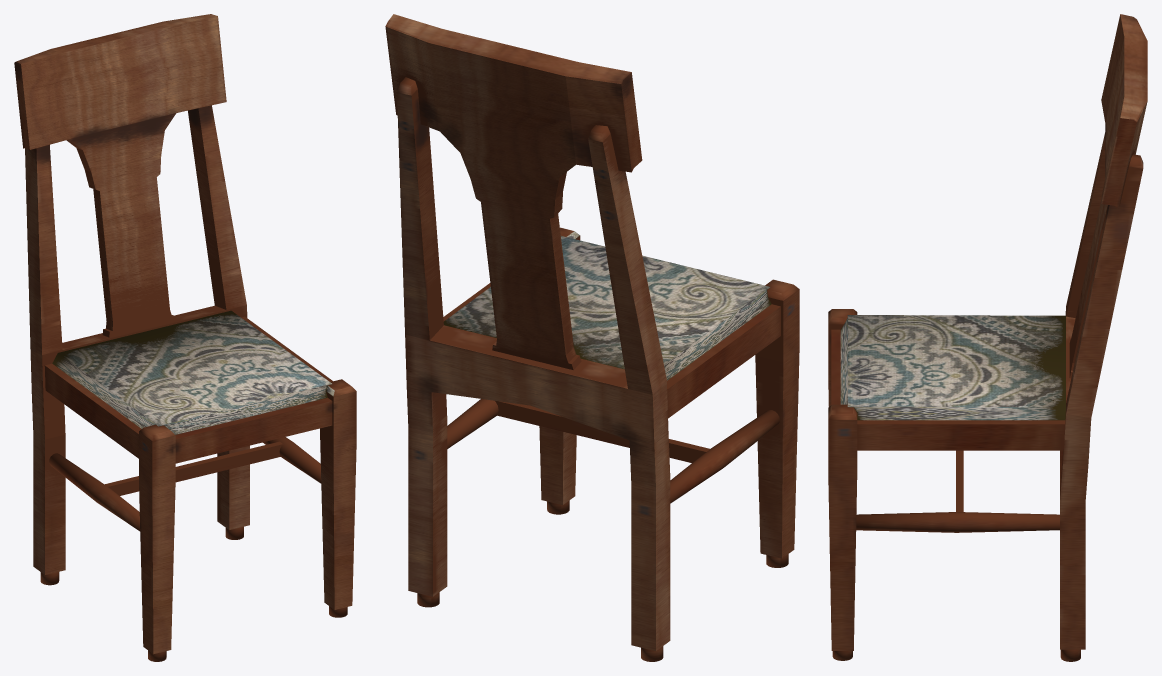
3 renders of one model, left to right at view 1: azimuth 30°, elevation 25°; view 2: azimuth 150°, elevation 25°; view 3: azimuth 270°, elevation 25°, orthographic. The views are drawn at different scales.
Parts seen in each view (by area): view 1: Cube.004; view 2: Cube.004; view 3: Cube.004.
Boxes of the visible parts, <box> form: Cube.004: <box>14,14,356,661</box>; Cube.004: <box>385,14,799,661</box>; Cube.004: <box>828,14,1147,661</box>.
Size of the model in its own units: 1.33 by 3.13 by 1.67.
4 materials, 4 textured.
